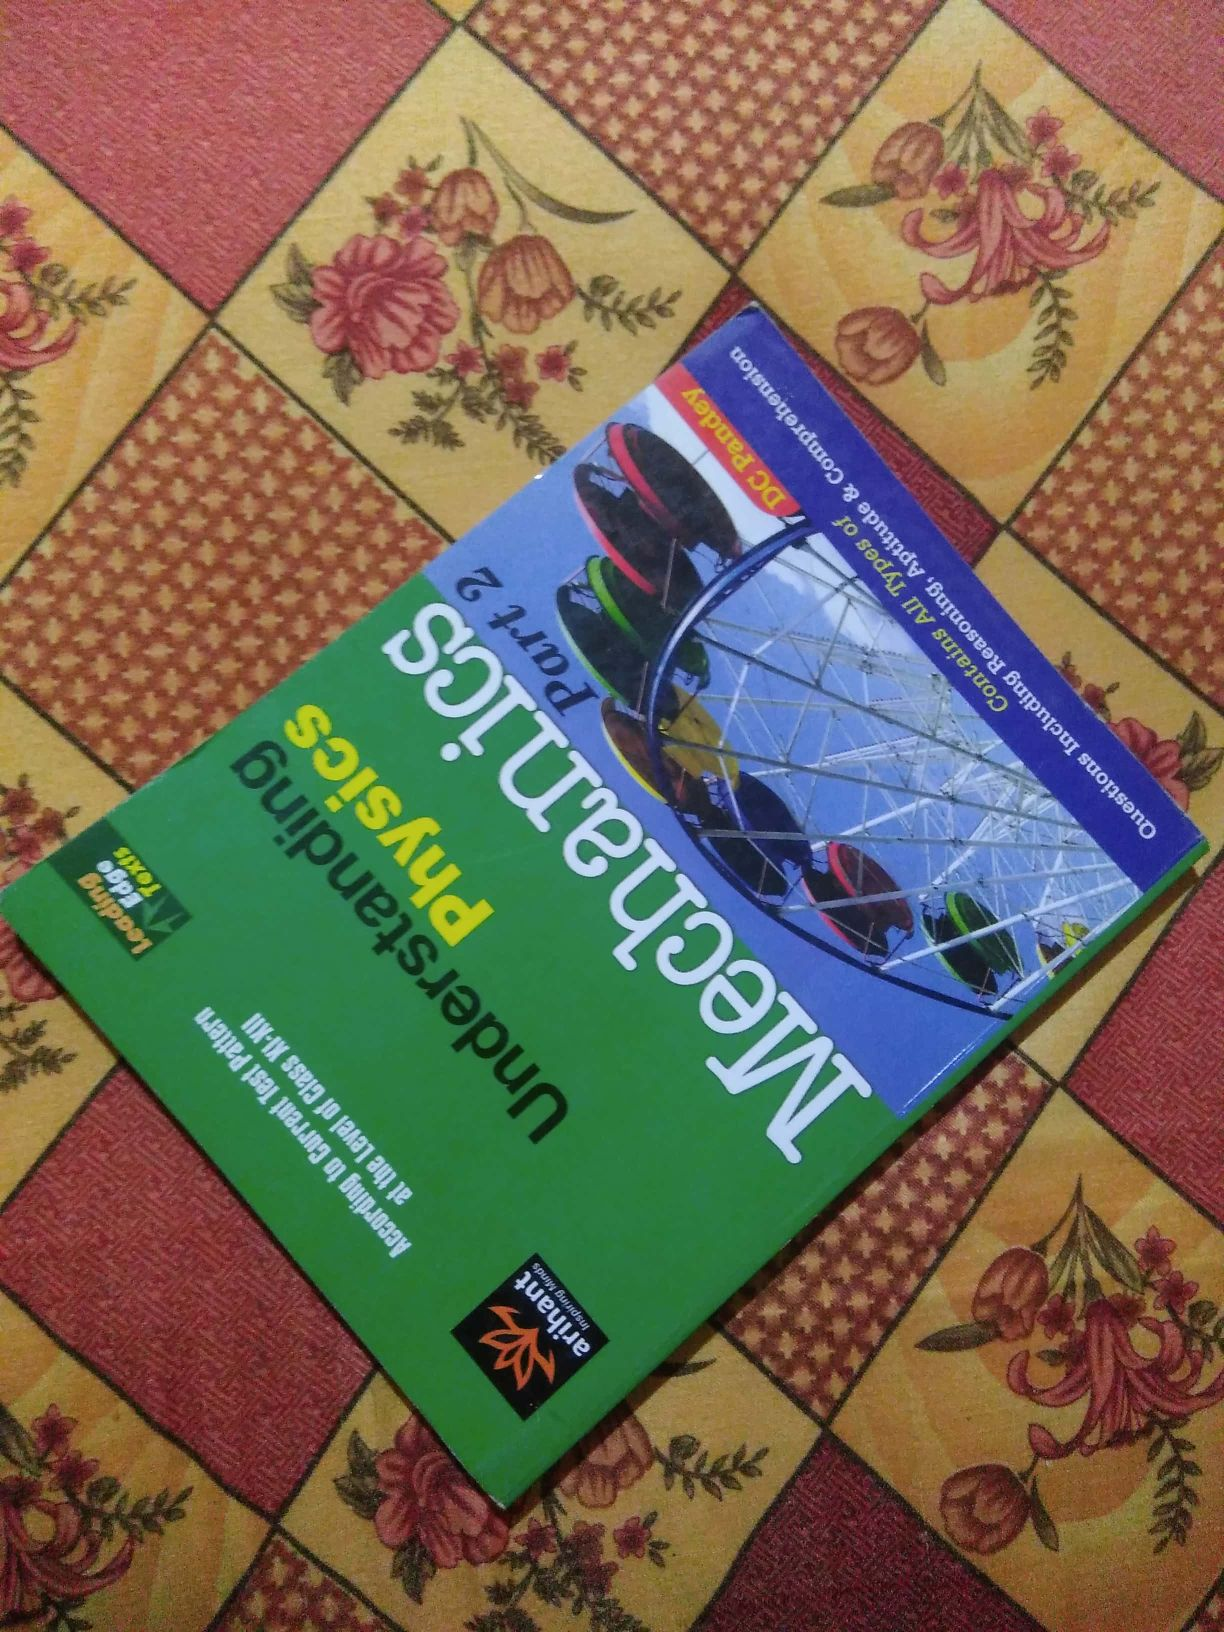mechanics: (93, 332, 1137, 1461)
